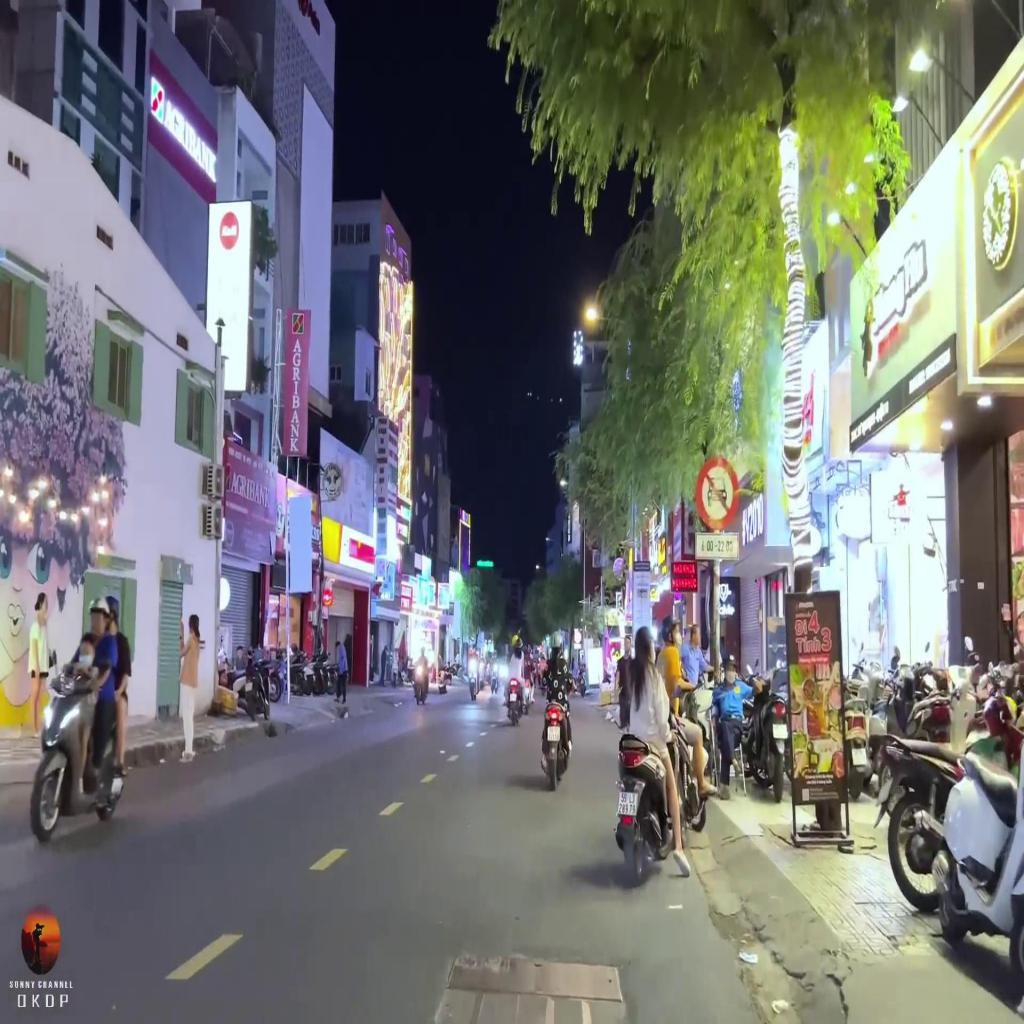cam_o_to: (694, 454, 741, 530)
khac: (696, 535, 739, 558)
